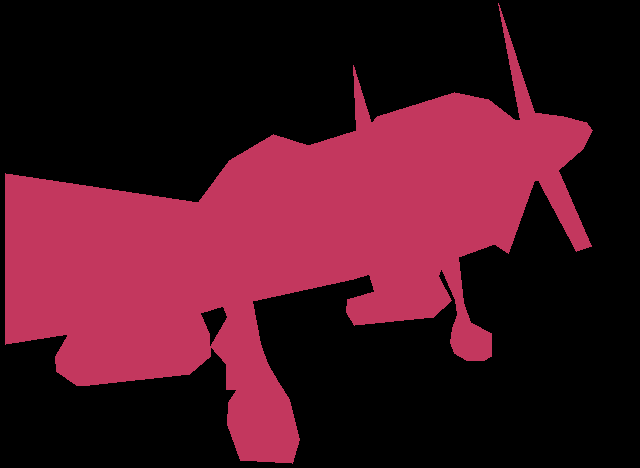Airplane: (5, 3, 593, 464)
